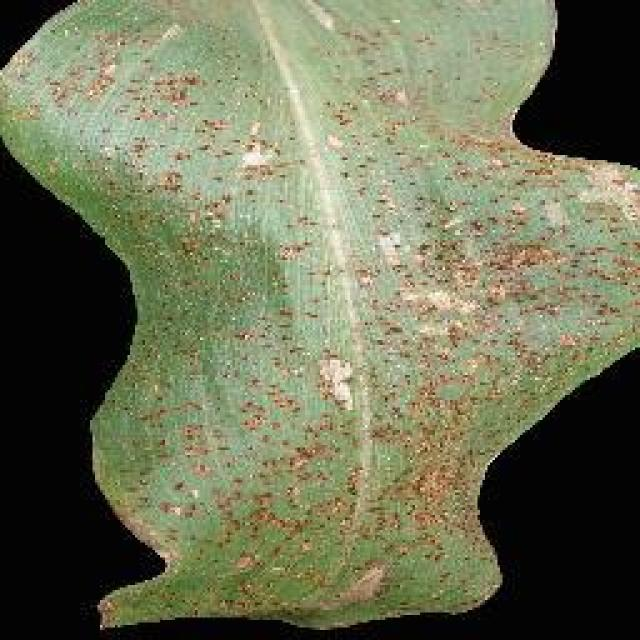Corn Common Rust: (75, 52, 627, 640)
